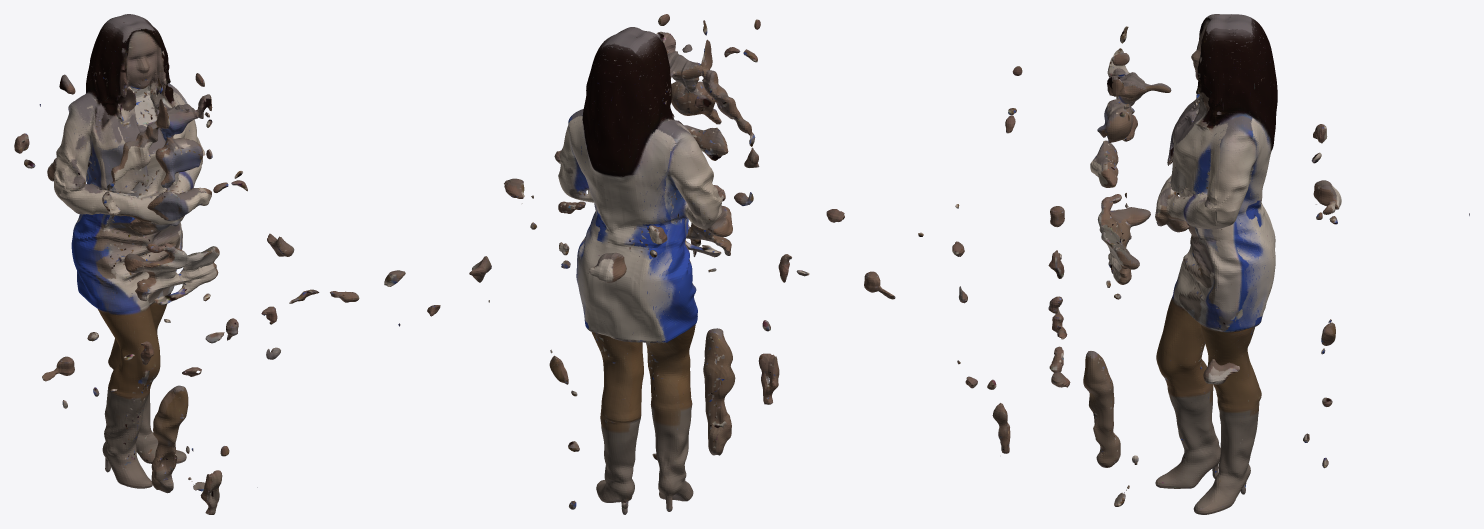
File: gen-zola-v6-humanoid-hd.glb
3 views of the same model, side by side, from view 1: azimuth 30°, elevation 25°; view 2: azimuth 150°, elevation 25°; view 3: azimuth 270°, elevation 25° (orthographic). The views are drawn at different scales.
Parts seen in each view (by area): view 1: geometry_0; view 2: geometry_0; view 3: geometry_0.
Boxes of the visible parts, x1,y1,x2,y2 form: geometry_0: [14, 14, 440, 514]; geometry_0: [469, 14, 923, 514]; geometry_0: [952, 14, 1469, 514].
Size of the model in its own units: 1.69 by 1.96 by 1.94.
1 material, 1 textured.
